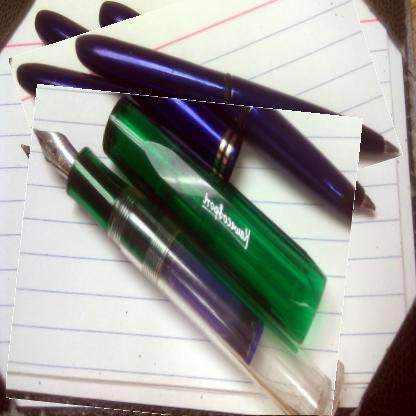Pen: (12, 92, 355, 415), (19, 0, 391, 239)
